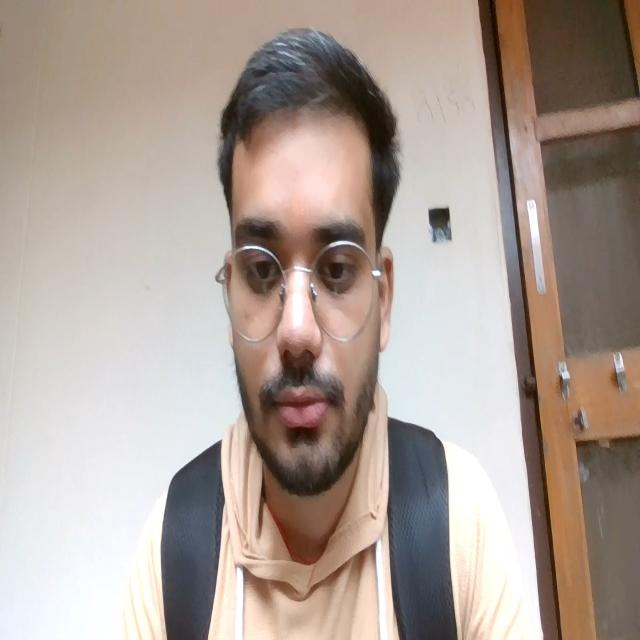awake: (232, 210, 360, 437)
